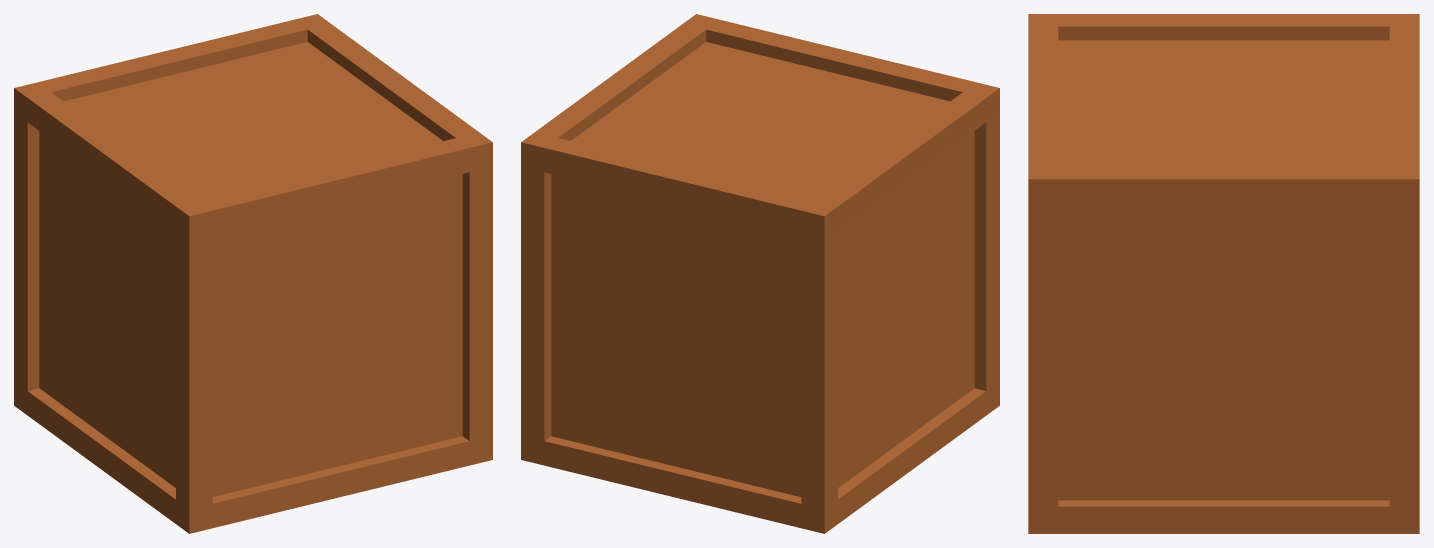
The model's file is Caixa.fbx.
3 renders of one model, left to right at view 1: azimuth 30°, elevation 25°; view 2: azimuth 150°, elevation 25°; view 3: azimuth 270°, elevation 25°, orthographic. The views are drawn at different scales.
Parts seen in each view (by area): view 1: CuboJunto; view 2: CuboJunto; view 3: CuboJunto.
Boxes of the visible parts, bbox=[...] form: CuboJunto: bbox=[14, 14, 492, 533]; CuboJunto: bbox=[521, 14, 999, 533]; CuboJunto: bbox=[1028, 14, 1419, 533].
Size of the model in its own units: 275 by 275 by 275.
